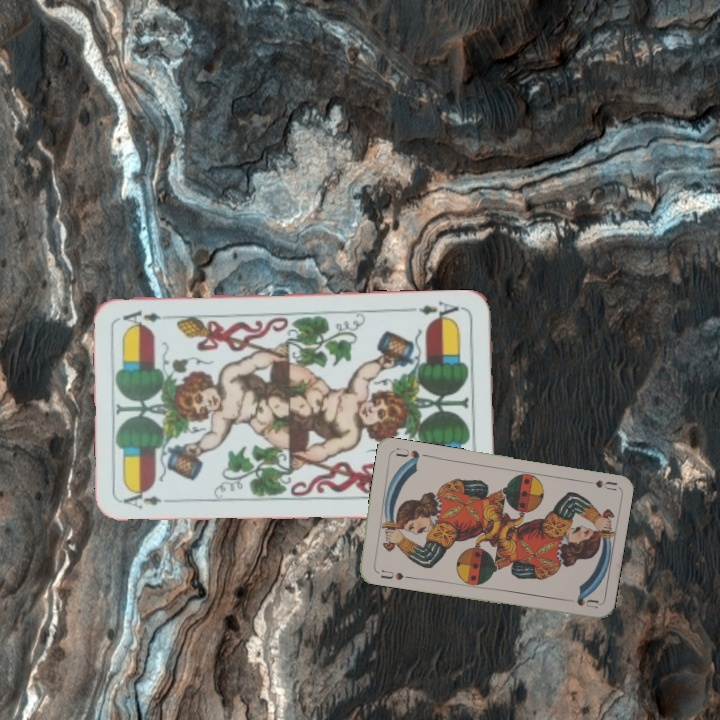EA: (407, 297, 466, 324), (120, 486, 179, 511)
SU: (577, 476, 618, 493), (377, 566, 406, 583)
